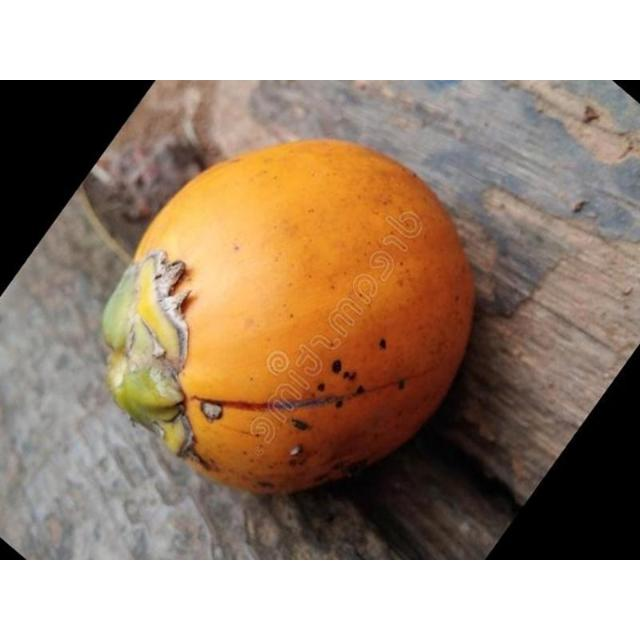good: (97, 139, 479, 500)
